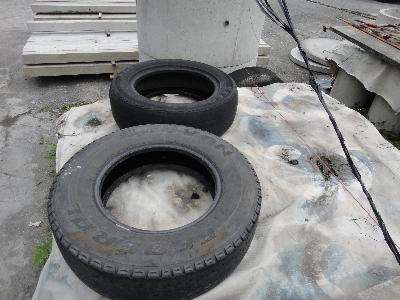plastic_bag: (256, 83, 399, 300)
tire: (48, 122, 262, 295), (106, 57, 239, 140)
